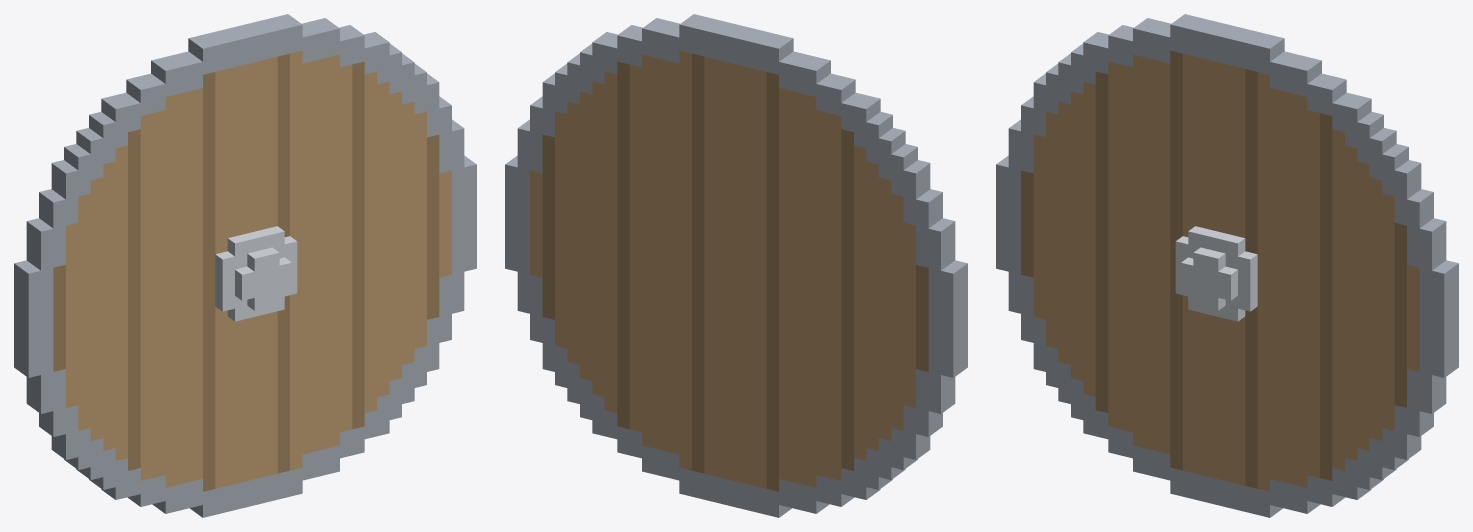
File: wooden_shield.glb
3 views of the same model, side by side, from view 1: azimuth 30°, elevation 25°; view 2: azimuth 150°, elevation 25°; view 3: azimuth 330°, elevation 25° (orthographic).
Visible parts, largest first — view 1: item; view 2: item; view 3: item.
Part boxes in pixels (x1,y1,x2,y2): item: (14, 14, 476, 517); item: (505, 14, 967, 517); item: (996, 14, 1458, 517).
Size of the model in its own units: 36 by 36 by 4.
